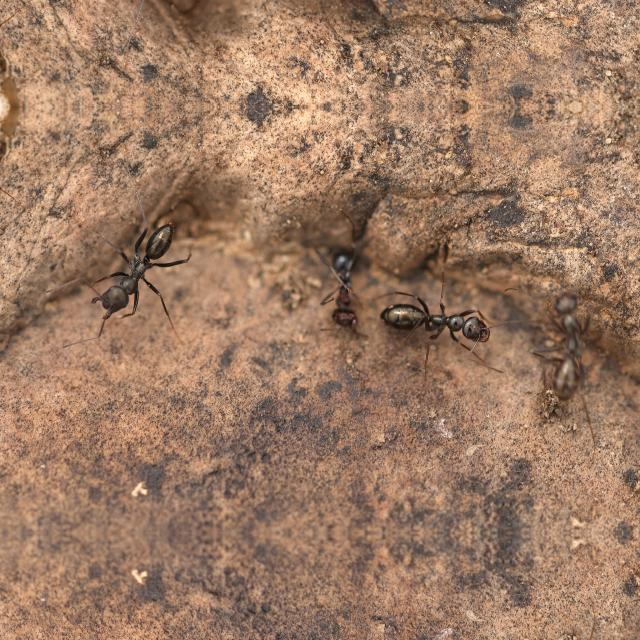Cataglyphis: (72, 207, 200, 327), (526, 282, 616, 406), (370, 288, 504, 356), (306, 237, 380, 335)
